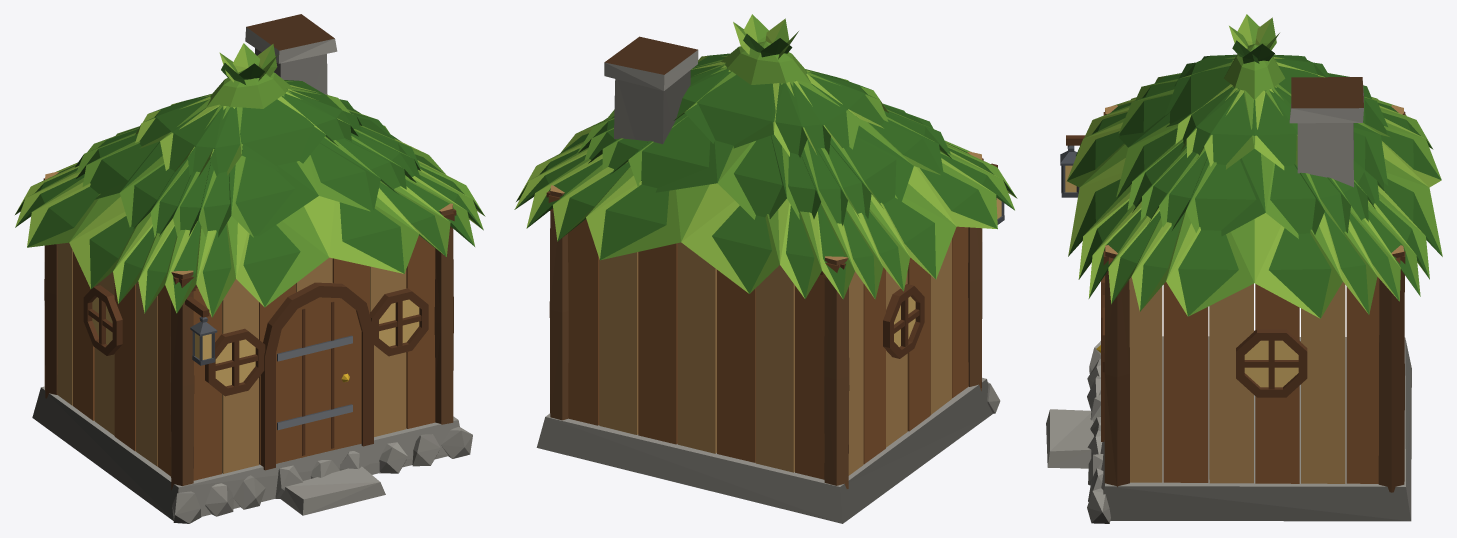
Rendered from home_hut.glb.
3 views of the same model, side by side, from view 1: azimuth 30°, elevation 25°; view 2: azimuth 150°, elevation 25°; view 3: azimuth 270°, elevation 25° (orthographic). The views are drawn at different scales.
Parts seen in each view (by area): view 1: home_hut; view 2: home_hut; view 3: home_hut.
Boxes of the visible parts, left/top/right/bottom form: home_hut: left=15, top=14, right=485, bottom=523; home_hut: left=514, top=14, right=1017, bottom=523; home_hut: left=1046, top=14, right=1442, bottom=523.
Bounding box in the file's own units: 2.8 × 2.68 × 2.31.
